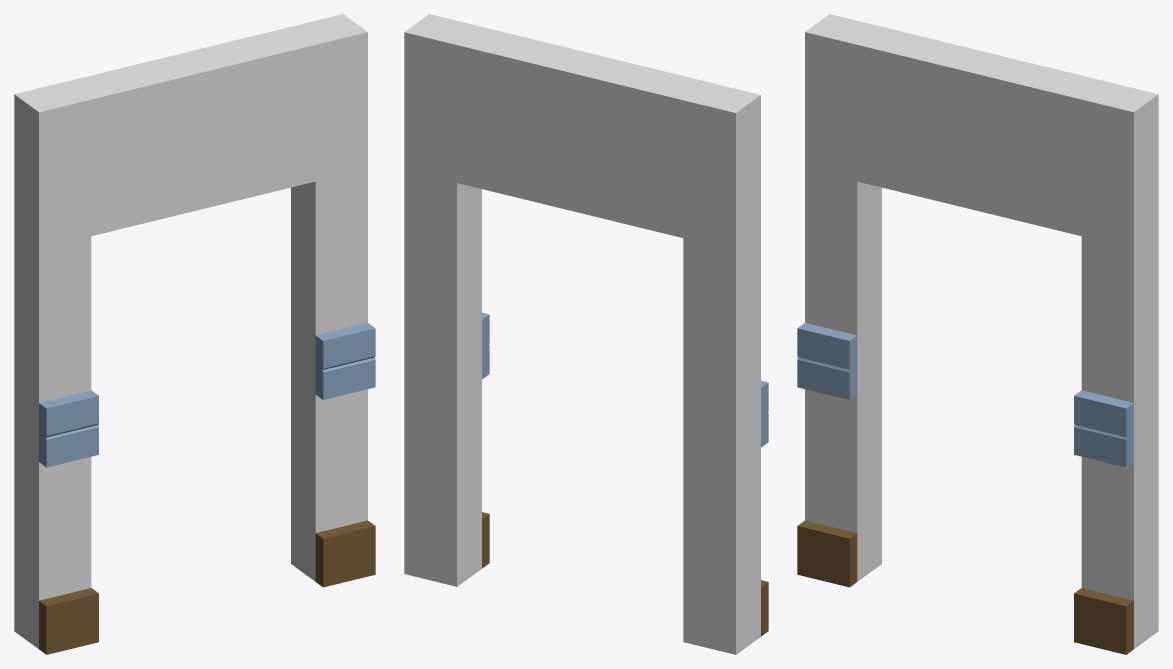
Rendered from wall_door_ward.fbx.
The picture shows the model from 3 angles, left to right: view 1: azimuth 30°, elevation 25°; view 2: azimuth 150°, elevation 25°; view 3: azimuth 330°, elevation 25°; orthographic projection.
Visible parts, largest first — view 1: H_Wall_Door_Ward; view 2: H_Wall_Door_Ward; view 3: H_Wall_Door_Ward.
Boxes of the visible parts, left/top/right/bottom form: H_Wall_Door_Ward: left=14, top=14, right=375, bottom=654; H_Wall_Door_Ward: left=404, top=14, right=768, bottom=654; H_Wall_Door_Ward: left=797, top=14, right=1158, bottom=654.
Size of the model in its own units: 1000 by 170 by 1560.
